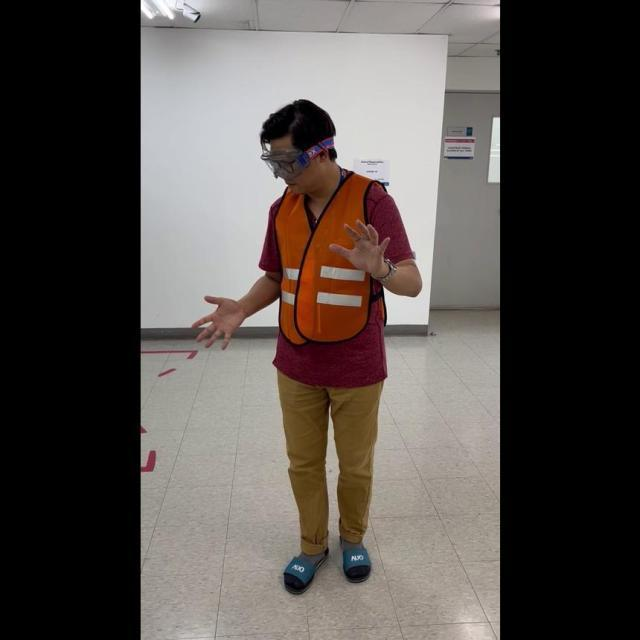bare_hand: (327, 214, 393, 283), (190, 292, 243, 351)
